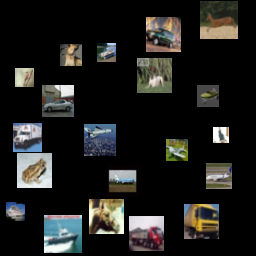airplane: (107, 165, 139, 197), (84, 124, 116, 156), (206, 163, 232, 189), (166, 139, 188, 161)
automobile: (146, 17, 181, 52), (42, 85, 74, 117)
bird: (15, 68, 34, 87)
cat: (213, 127, 229, 143)
deer: (200, 1, 238, 39)
dog: (137, 58, 172, 93), (60, 44, 82, 66)
frog: (17, 153, 52, 188)
ship: (44, 215, 82, 253), (197, 85, 219, 107), (6, 202, 25, 221), (97, 43, 116, 62)
